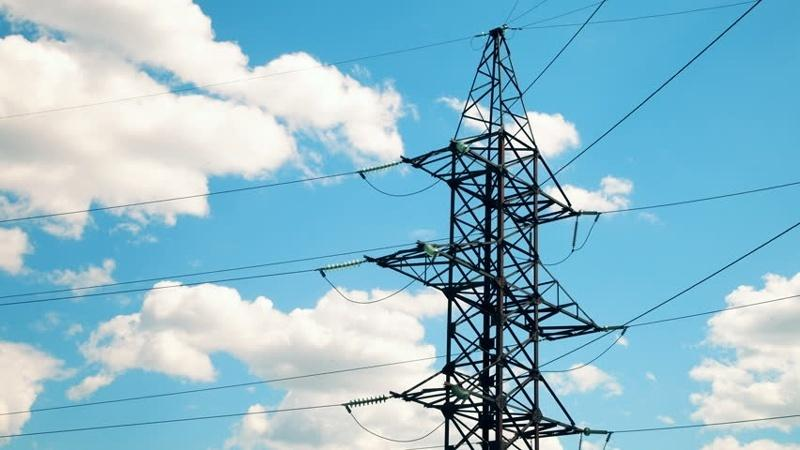power_tower: (345, 11, 624, 444)
